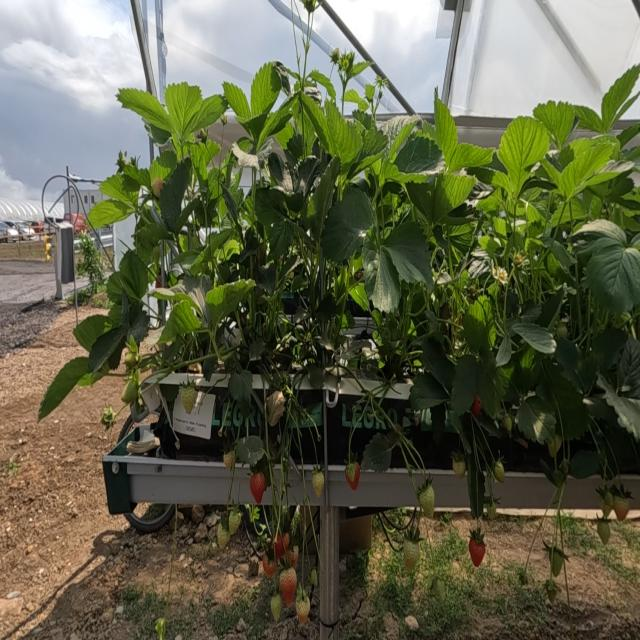Flowers: (497, 268, 507, 283)
Leaves: (570, 219, 639, 315), (585, 398, 639, 476), (322, 188, 372, 263), (499, 117, 548, 192), (559, 137, 618, 199), (543, 362, 589, 439), (385, 221, 431, 287), (39, 358, 87, 418), (164, 82, 202, 151), (308, 157, 339, 240), (601, 65, 639, 129), (326, 101, 361, 169), (117, 89, 170, 133), (160, 158, 191, 233), (364, 248, 399, 312), (206, 280, 254, 324), (434, 173, 475, 222), (516, 392, 555, 443), (533, 101, 575, 148), (395, 138, 445, 177), (421, 335, 455, 392), (300, 92, 331, 154), (257, 97, 294, 148), (451, 355, 479, 416), (89, 325, 126, 371), (177, 275, 211, 322), (250, 62, 279, 116), (354, 128, 387, 175), (436, 95, 457, 168), (409, 372, 447, 411), (591, 327, 627, 368), (477, 354, 500, 418), (120, 250, 147, 301), (189, 94, 225, 132), (462, 309, 491, 356), (387, 120, 419, 162), (512, 322, 555, 353), (100, 174, 137, 210), (449, 144, 496, 171), (74, 315, 109, 351), (255, 187, 285, 228), (88, 200, 133, 227), (223, 82, 251, 120), (363, 433, 391, 471), (538, 288, 564, 327), (407, 182, 432, 221), (229, 370, 251, 414), (149, 150, 177, 183), (572, 106, 603, 133), (569, 451, 600, 478), (236, 436, 263, 463), (266, 392, 283, 426), (107, 272, 123, 305), (250, 472, 266, 503), (496, 337, 511, 365), (180, 386, 196, 411), (224, 450, 235, 471)
Strawberries: (279, 568, 296, 605), (403, 540, 419, 574), (419, 485, 434, 518), (469, 540, 485, 567), (345, 462, 359, 490), (228, 507, 241, 536), (550, 548, 563, 576), (100, 406, 115, 430), (296, 598, 309, 624), (613, 499, 629, 519), (270, 594, 282, 619), (217, 523, 229, 548), (597, 520, 610, 543), (312, 470, 323, 495), (602, 492, 613, 517), (452, 458, 466, 477), (548, 436, 561, 456), (546, 578, 556, 603), (151, 178, 164, 197), (285, 548, 297, 567), (263, 559, 275, 578), (494, 461, 504, 483), (503, 415, 511, 431), (487, 504, 495, 519), (514, 253, 523, 265), (401, 514, 409, 527)
